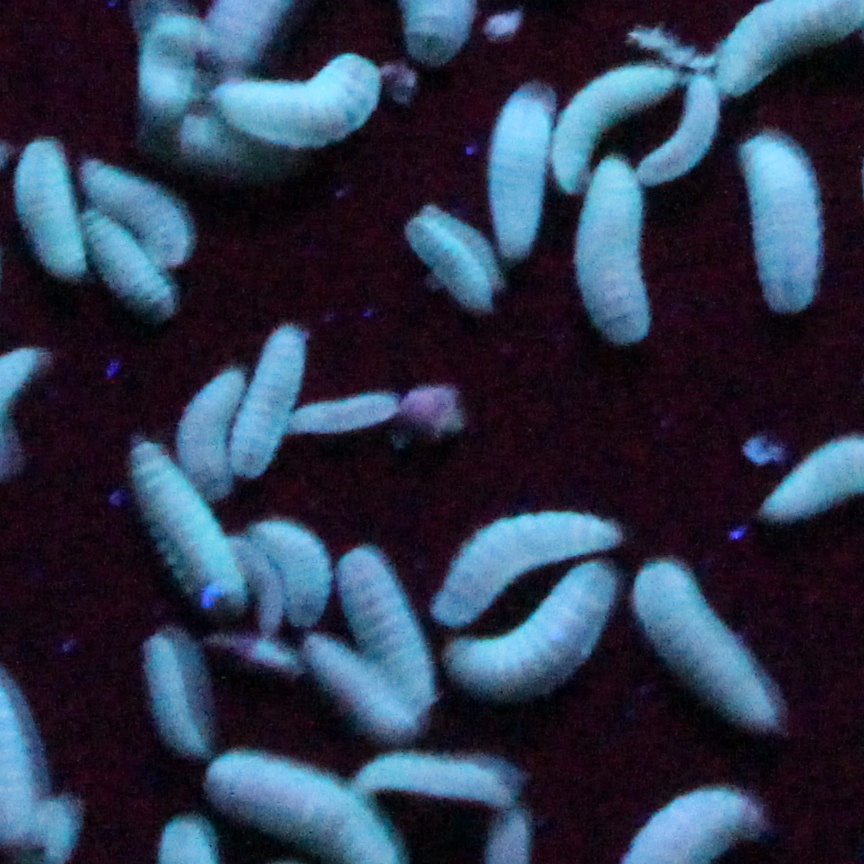larve: (634, 562, 774, 728), (462, 562, 614, 697), (440, 503, 619, 614), (128, 454, 240, 613), (570, 162, 650, 349), (734, 136, 817, 315), (560, 49, 665, 180), (208, 58, 380, 137), (342, 549, 428, 704), (83, 159, 196, 257), (17, 138, 83, 289), (235, 332, 305, 467), (357, 747, 514, 801), (260, 517, 329, 635), (141, 634, 207, 756), (412, 214, 494, 312), (88, 217, 168, 317), (182, 366, 238, 496), (650, 77, 715, 186), (498, 89, 540, 255), (228, 542, 285, 632), (293, 390, 399, 435)
